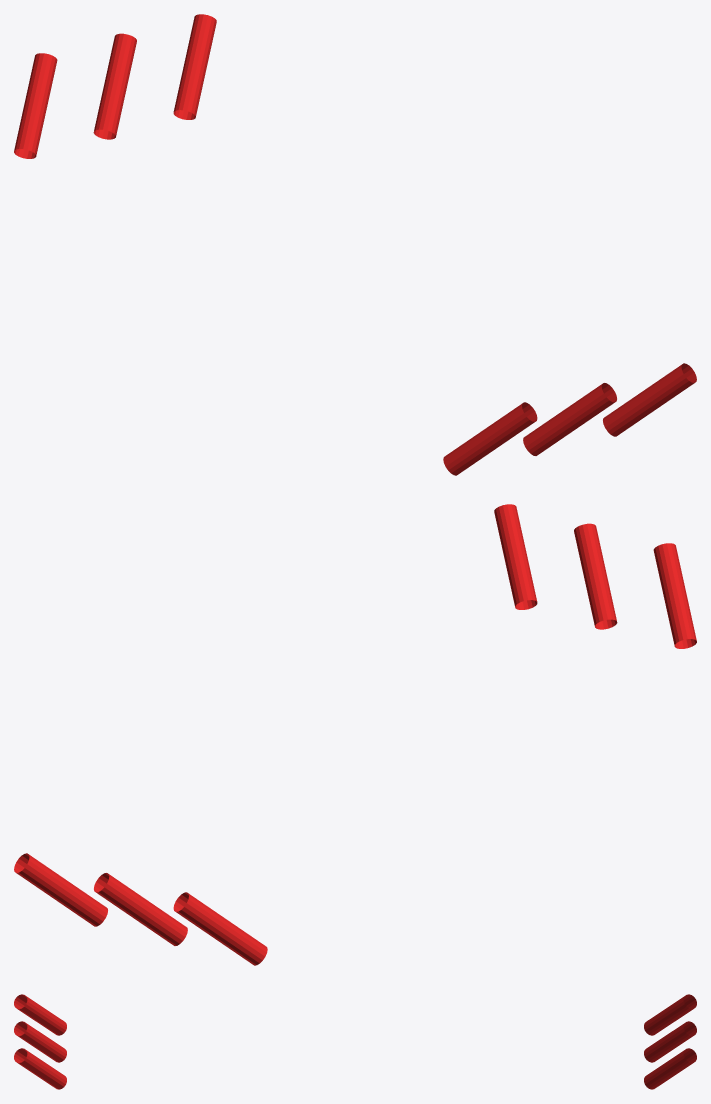
Rendered from 36_rear_wake_fences.glb.
The picture shows the model from 3 angles, top to bottom: view 1: azimuth 30°, elevation 25°; view 2: azimuth 150°, elevation 25°; view 3: azimuth 270°, elevation 25°; orthographic projection. The views are drawn at different scales.
Parts seen in each view (by area): view 1: 36_rear_wake_fences; view 2: 36_rear_wake_fences; view 3: 36_rear_wake_fences.
Part boxes in pixels (box(x1,y1,x2,y2)): 36_rear_wake_fences: box(14, 14, 696, 475); 36_rear_wake_fences: box(14, 504, 696, 965); 36_rear_wake_fences: box(14, 994, 696, 1089).
Bounding box in the file's own units: 22.66 × 7.52 × 85.66.
